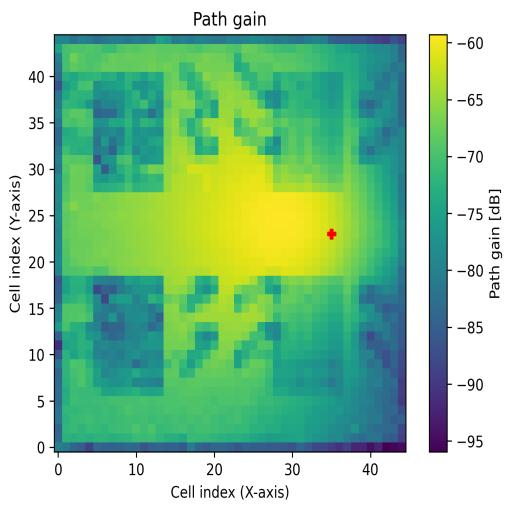Concrete: (274, 73, 344, 191)
Glass: (93, 73, 164, 193)
Metal: (273, 277, 344, 396)
Wood: (94, 277, 164, 397)
